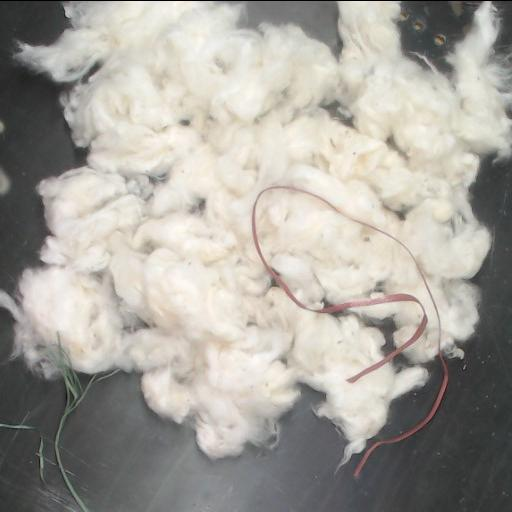conveyor belt: (61, 158, 511, 512), (0, 1, 84, 291), (0, 361, 82, 512), (400, 1, 479, 69), (379, 363, 441, 436), (246, 1, 336, 43)
cotton: (0, 1, 511, 464)
thread: (251, 185, 448, 476), (53, 362, 100, 512), (37, 434, 46, 483), (0, 422, 35, 429)
